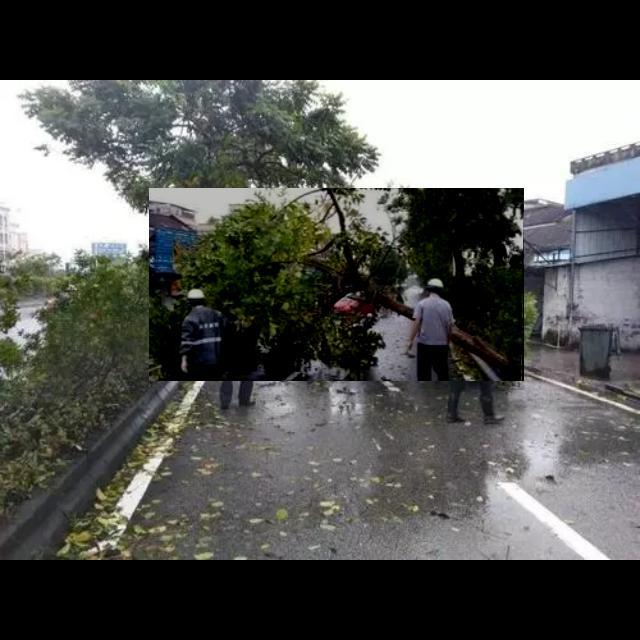fallen_tree: (149, 188, 525, 382)
